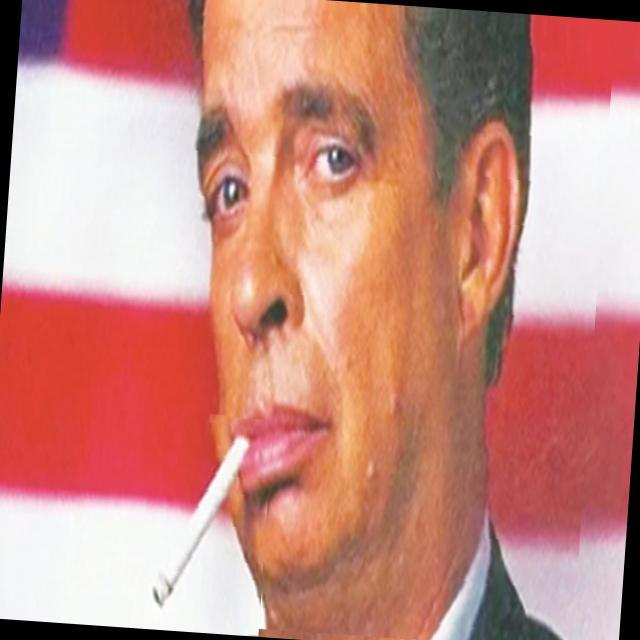cigarette: (123, 404, 274, 636)
